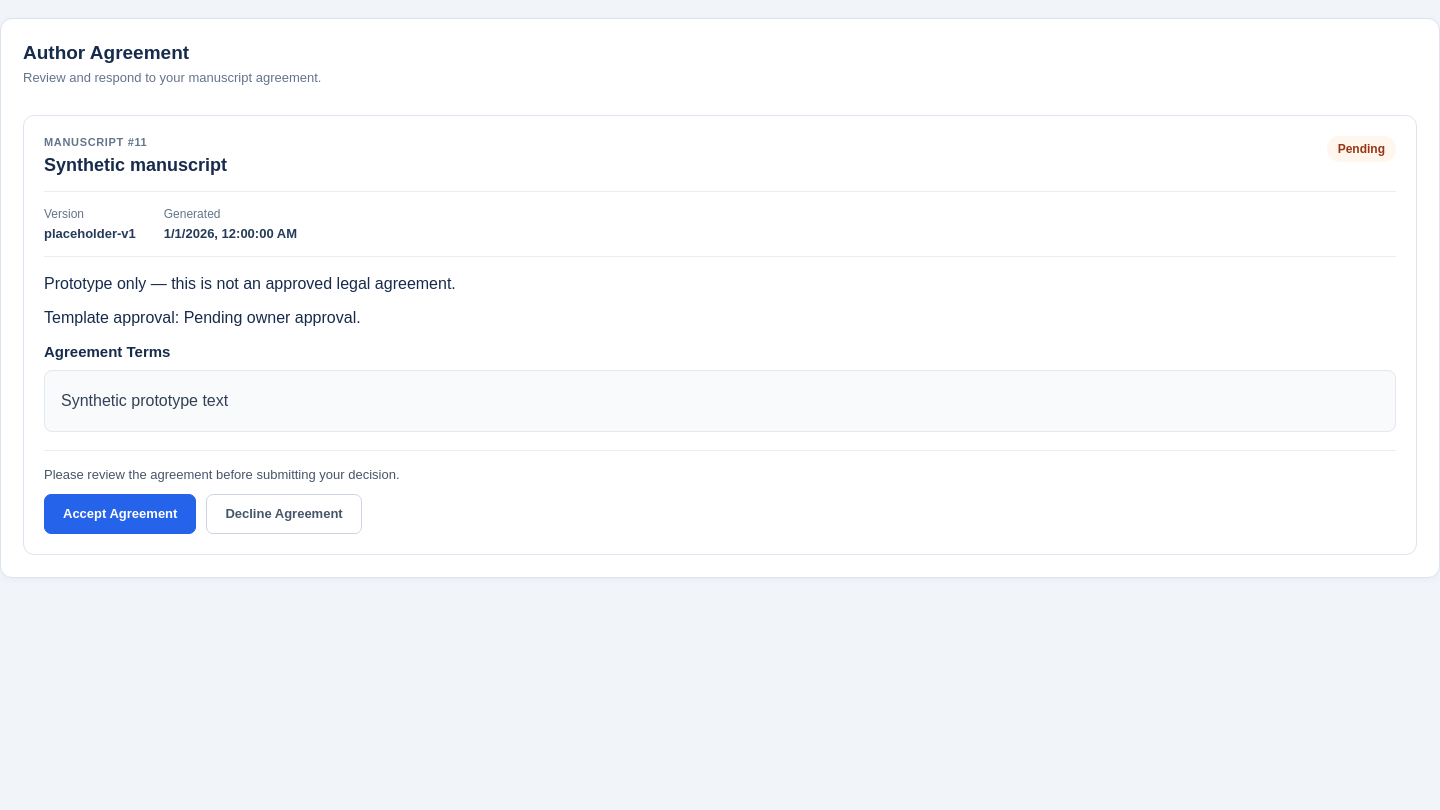
shows prototype, version, generated date and an idempotent response
Later steps or results of the test are not shown.
Check: the heading "Synthetic manuscript" is shown, box [44, 155, 227, 176]
Check: the text "Prototype only — this is not an approved legal agreement." is shown, box [44, 275, 456, 292]
Step 1. Click the button "Accept Agreement" → (120, 514), box [44, 494, 196, 534]
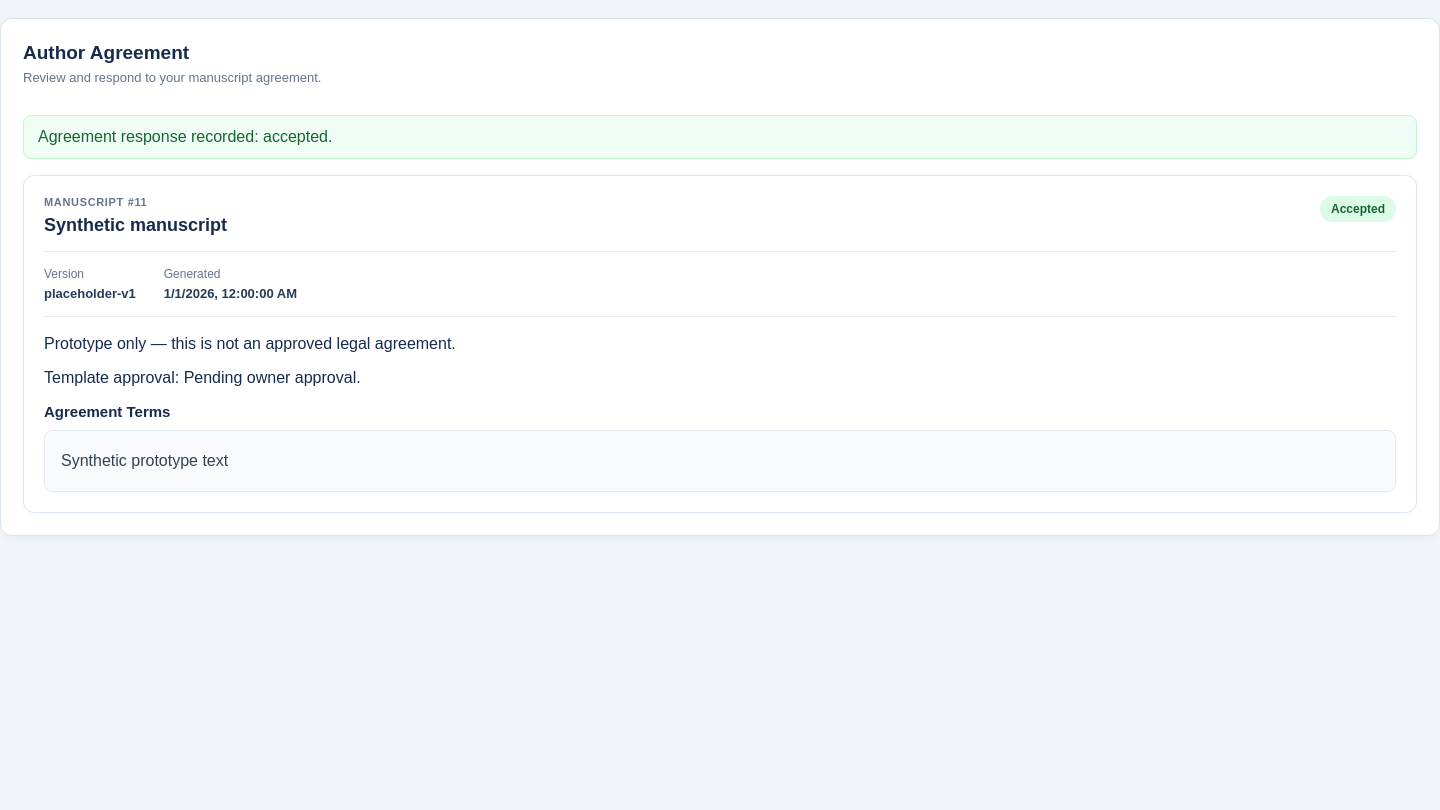
Check: the text "Agreement response recorded: accepted." is shown, box [23, 115, 1417, 159]
Check: the button "Accept Agreement" is gone
